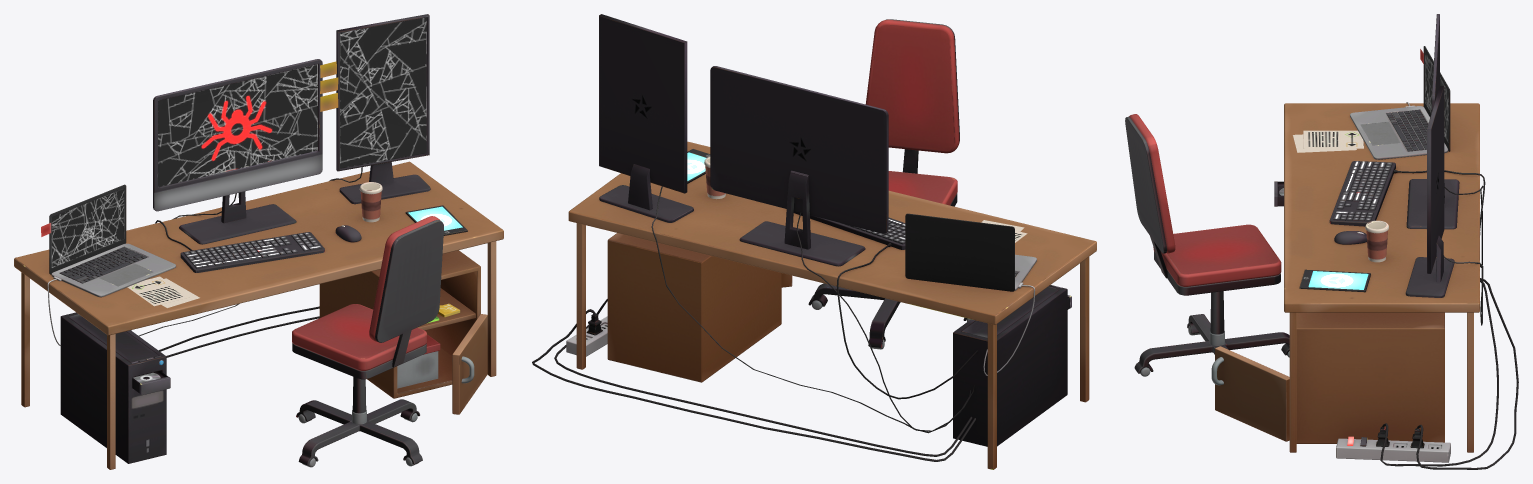
Rendered from skills-pc-43a5b7a2067f.glb.
3 renders of one model, left to right at view 1: azimuth 30°, elevation 25°; view 2: azimuth 150°, elevation 25°; view 3: azimuth 270°, elevation 25°, orthographic. The views are drawn at different scales.
Parts seen in each view (by area): view 1: Final; view 2: Final; view 3: Final.
Part boxes in pixels (x1=…): Final: x1=14, y1=14, x2=503, y2=469; Final: x1=532, y1=14, x2=1096, y2=469; Final: x1=1125, y1=14, x2=1518, y2=469.
Size of the model in its own units: 2.36 by 1.64 by 1.81.
Materials: 1 (1 with a texture image).
